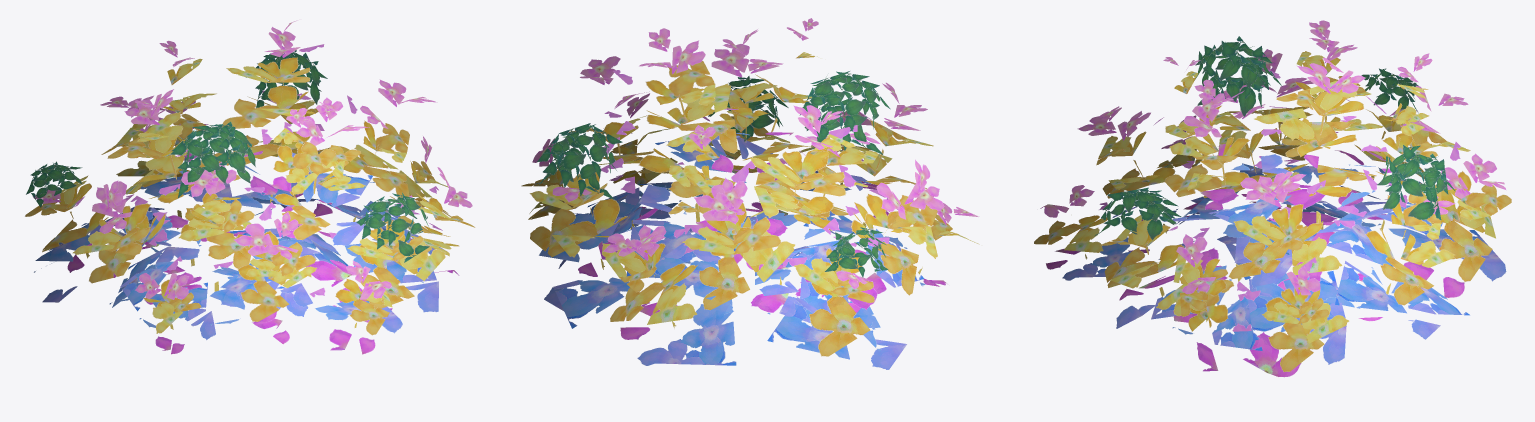
The model's file is bush_big.obj.
The picture shows the model from 3 angles, left to right: view 1: azimuth 30°, elevation 25°; view 2: azimuth 150°, elevation 25°; view 3: azimuth 270°, elevation 25°; orthographic projection. The views are drawn at different scales.
Parts seen in each view (by area): view 1: 草丛2.002; view 2: 草丛2.002; view 3: 草丛2.002.
Boxes of the visible parts, <box> form: 草丛2.002: <box>25,20,475,354</box>; 草丛2.002: <box>521,18,979,369</box>; 草丛2.002: <box>1034,20,1511,377</box>.
Size of the model in its own units: 3.97 by 2.88 by 4.03.
1 material, 1 textured.
